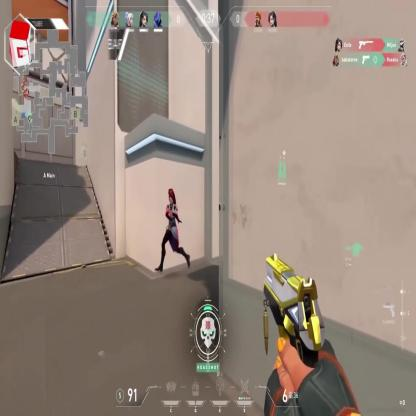enemy: (156, 186, 190, 274)
enemy_head: (167, 189, 174, 205)
